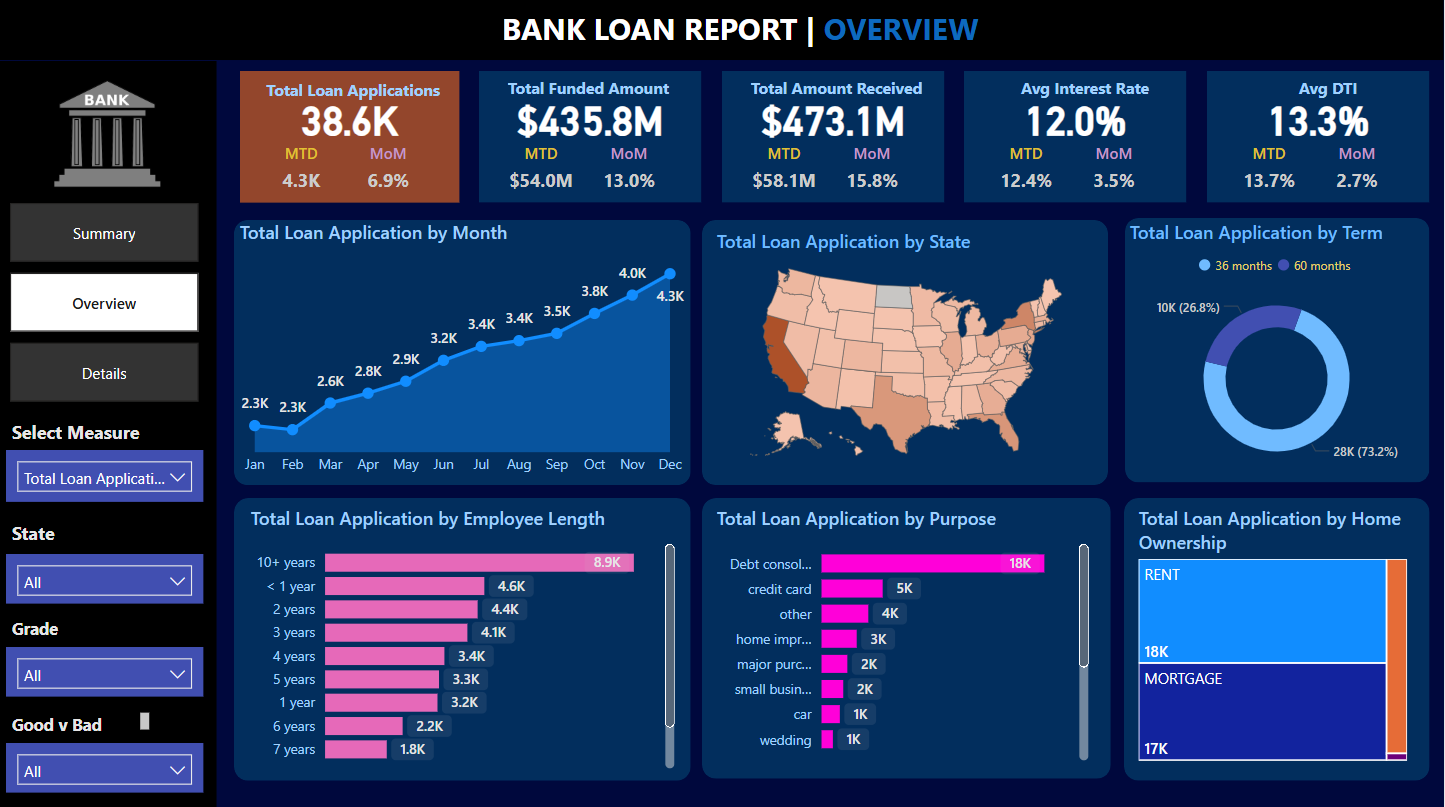

This screenshot's page, from the dashboard's own definition file:
{"tool":"powerbi","page":{"name":"Overview","canvas":[1280,720],"ordinal":1},"visuals":[{"type":"shape","box":[213,65.2,194.5,116.7],"z":0,"group":"g1"},{"type":"shape","box":[425,65.2,197.4,116.7],"z":0,"group":"g2"},{"type":"shape","box":[640,65.2,197.4,116.7],"z":0,"group":"g3"},{"type":"shape","box":[855,65.2,197.4,116.7],"z":0,"group":"g4"},{"type":"shape","box":[1069.9,65.2,197.4,116.7],"z":0,"group":"g5"},{"type":"shape","box":[207.2,196.5,405,235],"z":0},{"type":"shape","box":[0,0,1280,55.4],"z":1000},{"type":"card","fields":{"Values":["financial_loan.Total Loan Application"]},"box":[215.9,82.7,188.7,46.7],"z":1000,"group":"g1"},{"type":"card","fields":{"Values":["financial_loan.Total Funded Amount"]},"box":[428,82.7,191.5,46.7],"z":1000,"group":"g2"},{"type":"card","fields":{"Values":["financial_loan.Total Amount Received"]},"box":[643,82.7,191.5,46.7],"z":1000,"group":"g3"},{"type":"card","fields":{"Values":["financial_loan.Avg Interest Rate"]},"box":[858,82.7,191.5,46.7],"z":1000,"group":"g4"},{"type":"card","fields":{"Values":["financial_loan.Avg DTI"]},"box":[1072.9,82.7,191.5,46.7],"z":1000,"group":"g5"},{"type":"shape","box":[0,55.9,192.4,664.1],"z":2000},{"type":"textbox","box":[445.7,65.2,173.8,32.1],"z":2000,"group":"g2"},{"type":"textbox","box":[660.7,65.2,173.8,32.1],"z":2000,"group":"g3"},{"type":"textbox","box":[875.7,65.2,173.8,32.1],"z":2000,"group":"g4"},{"type":"textbox","box":[1090.6,65.2,173.8,32.1],"z":2000,"group":"g5"},{"type":"textbox","box":[221.7,67,182.9,30.2],"z":2000,"group":"g1"},{"type":"textbox","box":[439.6,3.9,451.3,47.7],"z":3000},{"type":"card","title":"MTD","fields":{"Values":["financial_loan.MTD Loan Applications"]},"box":[224.7,129.4,85.6,52.5],"z":3000,"group":"g1"},{"type":"card","title":"MTD","fields":{"Values":["financial_loan.MTD Funded Amount"]},"box":[436.8,129.4,86.9,52.5],"z":3000,"group":"g2"},{"type":"card","title":"MTD","fields":{"Values":["financial_loan.MTD Total Amount Received"]},"box":[651.8,129.4,86.9,52.5],"z":3000,"group":"g3"},{"type":"card","title":"MTD","fields":{"Values":["financial_loan.MTD Avg Interest Rate"]},"box":[866.8,129.4,86.9,52.5],"z":3000,"group":"g4"},{"type":"card","title":"MTD","fields":{"Values":["financial_loan.MTD Avg DTI"]},"box":[1081.7,129.4,86.9,52.5],"z":3000,"group":"g5"},{"type":"group","id":"g1","title":"Group 1","box":[213,65.2,194.5,116.7],"z":4000},{"type":"card","title":"MoM","fields":{"Values":["financial_loan.MoM Loan Application"]},"box":[301.5,129.4,85.6,52.5],"z":4000,"group":"g1"},{"type":"card","title":"MoM","fields":{"Values":["financial_loan.MoM Total Funded Amount"]},"box":[514.8,129.4,86.9,52.5],"z":4000,"group":"g2"},{"type":"card","title":"MoM","fields":{"Values":["financial_loan.MoM Total Amount Received"]},"box":[729.8,129.4,86.9,52.5],"z":4000,"group":"g3"},{"type":"card","title":"MoM","fields":{"Values":["financial_loan.MoM Abg Interest Rate"]},"box":[944.8,129.4,86.9,52.5],"z":4000,"group":"g4"},{"type":"card","title":"MoM","fields":{"Values":["financial_loan.MoM Avg DTI"]},"box":[1159.7,129.4,86.9,52.5],"z":4000,"group":"g5"},{"type":"group","id":"g2","title":"Group 1","box":[425,65.2,197.4,116.7],"z":5000},{"type":"group","id":"g3","title":"Group 1","box":[640,65.2,197.4,116.7],"z":6000},{"type":"group","id":"g4","title":"Group 1","box":[855,65.2,197.4,116.7],"z":7000},{"type":"group","id":"g5","title":"Group 1","box":[1069.9,65.2,197.4,116.7],"z":8000},{"type":"slicer","fields":{"Values":["financial_loan.address_state"]},"box":[5.3,493,174.7,44.3],"z":9000},{"type":"textbox","box":[5.3,458.4,56.7,31.9],"z":10000},{"type":"slicer","fields":{"Values":["financial_loan.grade"]},"box":[5.3,575.5,174.7,44.3],"z":11000},{"type":"textbox","box":[5.3,543.5,64.7,31.9],"z":12000},{"type":"slicer","fields":{"Values":["financial_loan.Good vs Bad Loan"]},"box":[5.3,660.6,174.7,44.3],"z":13000},{"type":"textbox","box":[5.3,628.7,132.1,31.9],"z":14000},{"type":"areaChart","fields":{"Y":["financial_loan.Total Loan Application"],"Category":["Date Table.Month"]},"box":[207.5,196.8,405.2,235],"z":15000},{"type":"slicer","fields":{"Values":["Select Measure.Select Measure"]},"box":[5.3,400.8,174.7,46.1],"z":16000},{"type":"textbox","box":[5.3,368.9,132.1,31.9],"z":17000},{"type":"shape","box":[622.5,196.8,360,235],"z":18000},{"type":"shapeMap","fields":{"Value":["financial_loan.Total Loan Application"],"Category":["financial_loan.address_state"]},"box":[630.4,204.8,345.8,215.5],"z":19000},{"type":"shape","box":[997.5,195.1,270.4,235],"z":20000},{"type":"donutChart","fields":{"Y":["financial_loan.Total Loan Application"],"Category":["financial_loan.term"]},"box":[996.7,196.8,271.3,233.2],"z":21000},{"type":"shape","box":[207.5,443.3,405.2,250.9],"z":22000},{"type":"barChart","fields":{"Y":["financial_loan.Total Loan Application"],"Category":["financial_loan.emp_length"]},"box":[217.2,450.4,385.7,237.6],"z":23000},{"type":"shape","box":[622.5,443.3,362.7,249.2],"z":24000},{"type":"barChart","fields":{"Y":["financial_loan.Total Loan Application"],"Category":["financial_loan.purpose"]},"box":[630.4,450.4,339.6,230.5],"z":25000},{"type":"shape","box":[996.7,443.3,271.3,250.9],"z":26000},{"type":"treemap","fields":{"Values":["financial_loan.Total Loan Application"],"Group":["financial_loan.home_ownership"]},"box":[1004.6,450.4,248.3,230.5],"z":27000},{"type":"pageNavigator","box":[8.9,181.8,167.6,176.5],"z":27001},{"type":"image","box":[18.6,68.3,153.4,104.6],"z":27002}]}

Visuals, with their boxes in screenshot pixels (x1, y1, x2, y2), scaled from the page's 1280x720 canvas onto the 1445x807 screenshot:
shape: l=240, t=73, r=460, b=204
shape: l=480, t=73, r=703, b=204
shape: l=722, t=73, r=945, b=204
shape: l=965, t=73, r=1188, b=204
shape: l=1208, t=73, r=1431, b=204
shape: l=234, t=220, r=691, b=484
shape: l=0, t=0, r=1444, b=62
card - financial_loan.Total Loan Application: l=244, t=93, r=457, b=145
card - financial_loan.Total Funded Amount: l=483, t=93, r=699, b=145
card - financial_loan.Total Amount Received: l=726, t=93, r=942, b=145
card - financial_loan.Avg Interest Rate: l=969, t=93, r=1185, b=145
card - financial_loan.Avg DTI: l=1211, t=93, r=1427, b=145
shape: l=0, t=63, r=217, b=806
textbox: l=503, t=73, r=699, b=109
textbox: l=746, t=73, r=942, b=109
textbox: l=989, t=73, r=1185, b=109
textbox: l=1231, t=73, r=1427, b=109
textbox: l=250, t=75, r=457, b=109
textbox: l=496, t=4, r=1006, b=58
"MTD" card: l=254, t=145, r=350, b=204
"MTD" card: l=493, t=145, r=591, b=204
"MTD" card: l=736, t=145, r=834, b=204
"MTD" card: l=979, t=145, r=1077, b=204
"MTD" card: l=1221, t=145, r=1319, b=204
"Group 1" group: l=240, t=73, r=460, b=204
"MoM" card: l=340, t=145, r=437, b=204
"MoM" card: l=581, t=145, r=679, b=204
"MoM" card: l=824, t=145, r=922, b=204
"MoM" card: l=1067, t=145, r=1165, b=204
"MoM" card: l=1309, t=145, r=1407, b=204
"Group 1" group: l=480, t=73, r=703, b=204
"Group 1" group: l=722, t=73, r=945, b=204
"Group 1" group: l=965, t=73, r=1188, b=204
"Group 1" group: l=1208, t=73, r=1431, b=204
slicer - financial_loan.address_state: l=6, t=553, r=203, b=602
textbox: l=6, t=514, r=70, b=550
slicer - financial_loan.grade: l=6, t=645, r=203, b=695
textbox: l=6, t=609, r=79, b=645
slicer - financial_loan.Good vs Bad Loan: l=6, t=740, r=203, b=790
textbox: l=6, t=705, r=155, b=740
areaChart - financial_loan.Total Loan Application x Date Table.Month: l=234, t=221, r=692, b=484
slicer - Select Measure.Select Measure: l=6, t=449, r=203, b=501
textbox: l=6, t=413, r=155, b=449
shape: l=703, t=221, r=1109, b=484
shapeMap - financial_loan.Total Loan Application x financial_loan.address_state: l=712, t=230, r=1102, b=471
shape: l=1126, t=219, r=1431, b=482
donutChart - financial_loan.Total Loan Application x financial_loan.term: l=1125, t=221, r=1431, b=482
shape: l=234, t=497, r=692, b=778
barChart - financial_loan.Total Loan Application x financial_loan.emp_length: l=245, t=505, r=681, b=771
shape: l=703, t=497, r=1112, b=776
barChart - financial_loan.Total Loan Application x financial_loan.purpose: l=712, t=505, r=1095, b=763
shape: l=1125, t=497, r=1431, b=778
treemap - financial_loan.Total Loan Application x financial_loan.home_ownership: l=1134, t=505, r=1414, b=763
pageNavigator: l=10, t=204, r=199, b=402
image: l=21, t=77, r=194, b=194
